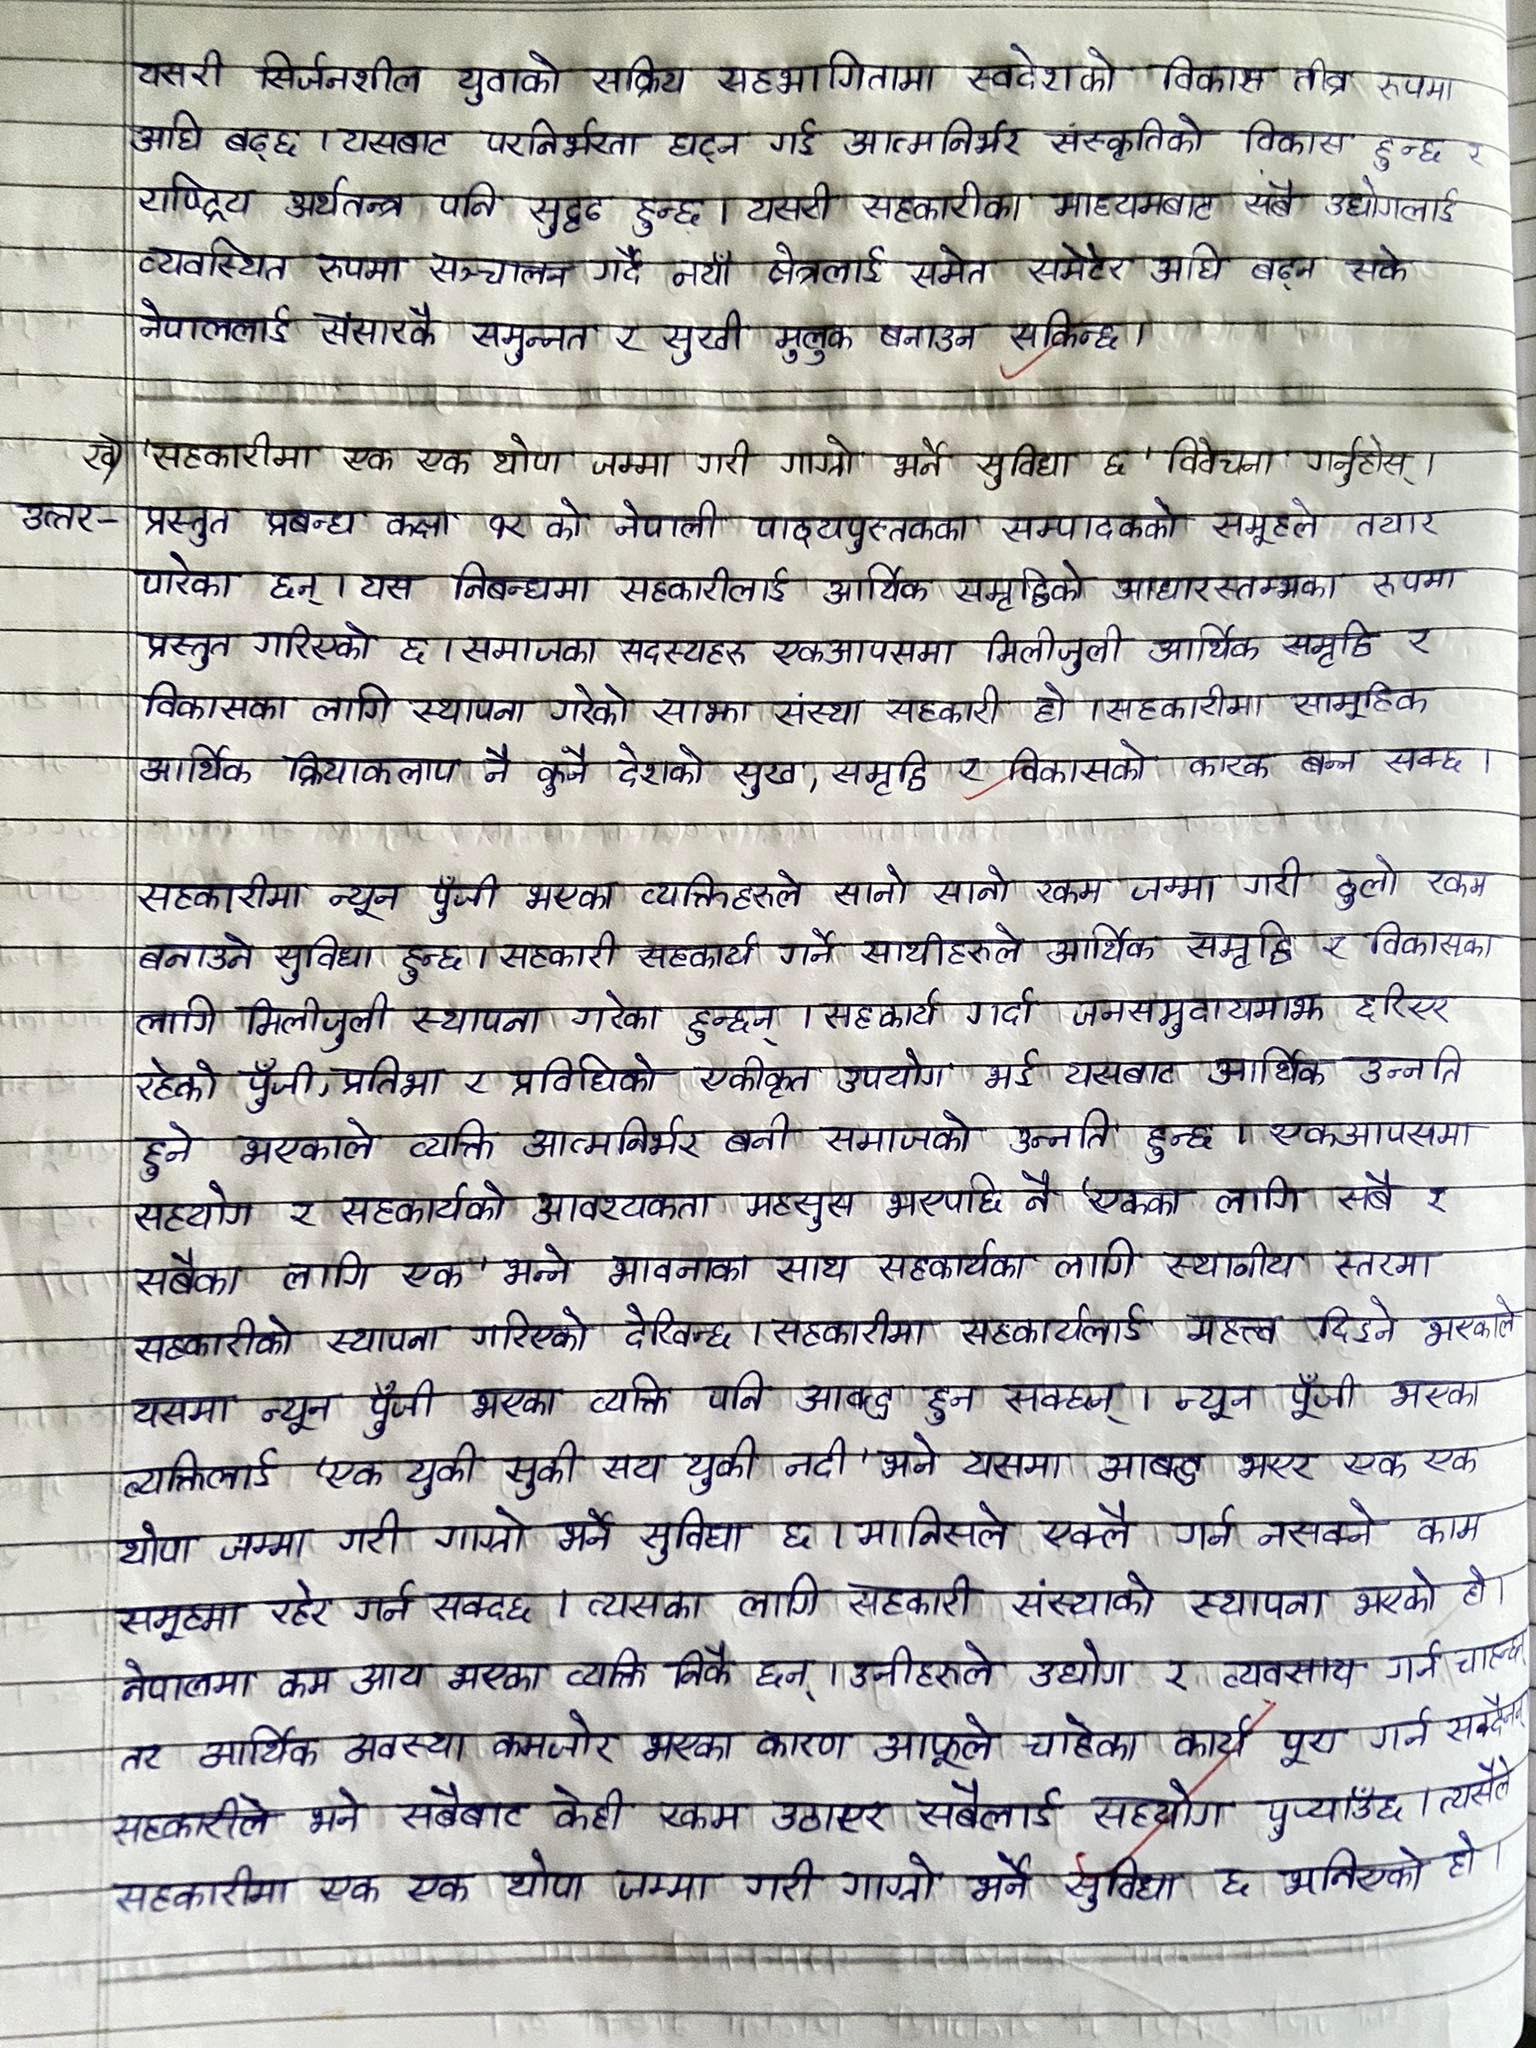text: (715, 42, 937, 98), (950, 1298, 1162, 1351), (1070, 989, 1325, 1032), (750, 508, 981, 555), (1278, 1842, 1430, 1911), (136, 419, 315, 476), (958, 40, 1125, 100), (103, 1866, 290, 1917), (1004, 1564, 1155, 1625), (1107, 568, 1346, 606), (239, 992, 397, 1050), (1000, 498, 1181, 548), (908, 1779, 1062, 1837), (278, 743, 461, 792), (523, 1185, 720, 1230), (248, 47, 424, 97), (131, 293, 290, 348), (478, 114, 647, 166), (106, 1795, 274, 1846), (1255, 1782, 1407, 1838), (637, 864, 807, 914), (854, 1501, 1012, 1555), (132, 1314, 295, 1366), (847, 1642, 1000, 1696), (1089, 1779, 1231, 1837), (142, 672, 292, 727), (862, 922, 1031, 971), (841, 118, 1028, 161), (131, 166, 260, 229), (113, 1655, 260, 1709), (615, 563, 792, 608), (334, 1180, 505, 1227), (1046, 114, 1217, 161), (841, 1572, 975, 1632), (770, 631, 960, 672), (521, 1121, 703, 1164), (111, 1448, 281, 1495), (1265, 1114, 1478, 1151), (1325, 173, 1468, 227), (1050, 177, 1218, 224), (131, 235, 287, 285), (873, 1240, 1034, 1288), (958, 558, 1091, 616), (1002, 742, 1155, 792), (862, 181, 1025, 227), (975, 626, 1125, 676), (1058, 1853, 1175, 1917), (1105, 684, 1265, 731), (311, 298, 442, 355), (449, 560, 595, 610), (136, 871, 303, 914), (232, 1118, 378, 1168), (1016, 1705, 1141, 1763), (390, 1782, 521, 1837), (1002, 303, 1125, 361), (765, 235, 886, 293), (510, 1056, 660, 1103), (1289, 676, 1439, 722), (278, 174, 413, 226), (489, 1713, 620, 1766), (424, 245, 573, 292), (815, 984, 954, 1034), (871, 1714, 991, 1772), (881, 1171, 1015, 1222), (1204, 497, 1329, 552), (452, 45, 561, 108), (466, 313, 592, 368), (1258, 1500, 1383, 1555), (1200, 1039, 1325, 1093), (136, 739, 258, 793), (1300, 432, 1430, 484), (1354, 1042, 1475, 1097), (999, 1376, 1131, 1426), (597, 1251, 753, 1293), (631, 927, 762, 977), (195, 1725, 321, 1777), (1367, 918, 1501, 966), (1181, 1582, 1329, 1625), (636, 1508, 744, 1567), (103, 1596, 240, 1643), (820, 1114, 971, 1156), (137, 926, 260, 977), (129, 1182, 252, 1234), (468, 1308, 591, 1359), (660, 305, 749, 376), (127, 618, 242, 672), (833, 1850, 941, 1908), (1220, 1651, 1359, 1696), (770, 1309, 925, 1350), (694, 1051, 818, 1101), (1158, 1240, 1299, 1284), (127, 1248, 242, 1301), (616, 1305, 737, 1355), (741, 1177, 857, 1229), (581, 1580, 713, 1625), (678, 997, 797, 1047), (1144, 618, 1263, 668), (765, 1793, 887, 1842), (1344, 1564, 1446, 1622), (1184, 922, 1302, 972), (252, 618, 378, 664), (1154, 50, 1275, 98), (1021, 1637, 1128, 1692), (119, 39, 226, 94), (269, 932, 382, 984), (457, 631, 607, 669), (337, 1725, 470, 1769), (826, 745, 928, 801), (1152, 434, 1275, 481), (1418, 1295, 1521, 1350), (1281, 614, 1384, 669), (494, 1853, 591, 1911), (883, 684, 1005, 729), (1354, 976, 1460, 1027), (497, 934, 623, 977), (608, 498, 721, 547), (1309, 1293, 1397, 1355), (963, 1850, 1047, 1914), (403, 690, 532, 732), (463, 1372, 565, 1426), (132, 548, 234, 601), (1004, 1106, 1112, 1156), (1020, 239, 1128, 289), (276, 1245, 374, 1300), (837, 1050, 949, 1098), (1039, 1496, 1134, 1553), (323, 1316, 455, 1356), (1176, 1301, 1279, 1353), (587, 52, 694, 102), (1325, 1240, 1442, 1285), (1092, 1443, 1208, 1488), (615, 631, 750, 669), (129, 1055, 224, 1109), (124, 98, 211, 158), (405, 1118, 505, 1169), (566, 990, 666, 1042), (1325, 845, 1399, 914), (1046, 921, 1155, 968), (329, 1055, 442, 1100), (432, 1501, 528, 1555), (544, 677, 639, 731), (816, 564, 933, 608), (615, 1864, 726, 1909), (975, 442, 1078, 490), (1236, 116, 1350, 160), (957, 1442, 1063, 1488), (1381, 1374, 1488, 1421), (428, 1582, 537, 1627), (1163, 1371, 1254, 1426), (331, 119, 453, 160), (140, 498, 242, 547), (524, 187, 611, 244), (410, 1001, 542, 1039), (110, 1517, 198, 1572), (870, 318, 984, 360), (361, 1372, 436, 1437), (778, 434, 865, 489), (737, 177, 842, 223), (1347, 505, 1455, 548), (586, 1367, 671, 1422), (900, 244, 994, 293), (762, 690, 865, 735), (423, 864, 499, 926), (545, 1782, 628, 1838), (1167, 1709, 1249, 1766), (502, 1438, 579, 1498), (641, 1719, 736, 1767), (794, 1372, 892, 1419), (1281, 1366, 1355, 1427), (10, 490, 103, 539), (1371, 61, 1465, 110), (307, 677, 397, 727), (749, 1724, 852, 1767), (520, 871, 623, 914), (1447, 1692, 1531, 1745), (482, 427, 566, 481), (261, 502, 368, 543), (665, 1638, 737, 1700), (768, 314, 857, 364), (495, 1238, 576, 1293), (239, 1055, 315, 1113), (681, 1435, 758, 1492), (131, 993, 221, 1042), (313, 245, 410, 290), (737, 1572, 824, 1622), (626, 189, 715, 237), (1062, 1055, 1176, 1092), (407, 1438, 478, 1498), (613, 740, 700, 789), (724, 1109, 803, 1163), (1054, 1235, 1137, 1285), (928, 860, 1012, 910), (1087, 1179, 1187, 1221), (126, 1392, 239, 1429), (1383, 740, 1476, 784), (741, 1854, 815, 1909), (566, 1646, 650, 1695), (1144, 1116, 1228, 1164), (729, 751, 805, 805), (1270, 1714, 1339, 1772), (652, 692, 755, 731), (136, 1114, 198, 1177), (444, 1658, 545, 1696), (1233, 1442, 1317, 1488), (1365, 564, 1480, 598), (324, 871, 402, 921), (1344, 239, 1421, 289), (781, 1434, 854, 1487), (828, 864, 913, 910), (1241, 247, 1326, 292), (1125, 866, 1220, 906), (668, 248, 742, 300), (695, 1366, 771, 1416), (216, 1524, 307, 1566), (1215, 1176, 1299, 1221), (265, 1579, 336, 1632), (261, 1380, 332, 1434), (226, 118, 307, 164), (1373, 126, 1450, 174), (400, 1869, 486, 1913), (965, 985, 1047, 1030), (1149, 237, 1223, 287), (665, 123, 744, 169), (531, 740, 589, 803), (653, 1795, 744, 1835), (1439, 1764, 1512, 1814), (1455, 1625, 1533, 1672), (395, 939, 473, 985), (1183, 747, 1276, 785), (336, 1508, 403, 1561), (1334, 1166, 1397, 1222), (1170, 1501, 1241, 1551), (887, 431, 952, 485), (874, 1432, 941, 1485), (1367, 1705, 1433, 1758), (1410, 1503, 1491, 1546), (303, 1784, 365, 1840), (587, 443, 673, 484), (432, 176, 503, 224), (353, 1577, 419, 1629), (1241, 856, 1309, 906), (770, 1250, 854, 1290), (1031, 871, 1108, 914), (1204, 1853, 1265, 1908), (395, 1251, 470, 1297), (1417, 863, 1494, 905), (349, 1659, 431, 1698), (920, 1374, 978, 1429), (552, 1508, 615, 1558), (752, 1651, 813, 1701), (386, 503, 455, 547), (1238, 177, 1304, 223), (1284, 60, 1355, 102), (353, 566, 426, 606), (416, 435, 474, 485), (1029, 679, 1079, 737), (774, 926, 842, 968), (316, 1869, 381, 1913), (987, 1047, 1037, 1101), (770, 113, 824, 163), (692, 439, 758, 479), (1446, 1832, 1488, 1895), (336, 435, 399, 477), (1338, 1447, 1412, 1482), (1296, 742, 1363, 780), (265, 564, 324, 608), (321, 1455, 387, 1493), (589, 244, 649, 284), (1420, 1440, 1484, 1477), (1384, 1638, 1439, 1682), (600, 1447, 662, 1485), (274, 1663, 332, 1703), (74, 429, 121, 479), (390, 629, 445, 668), (545, 495, 586, 547), (116, 1738, 169, 1777), (1021, 1168, 1062, 1218), (1092, 440, 1134, 485), (1457, 1558, 1491, 1613), (479, 742, 515, 792), (487, 506, 529, 547), (778, 1513, 816, 1556), (613, 314, 645, 364), (1160, 1650, 1194, 1696), (1421, 1177, 1454, 1218), (1404, 619, 1438, 656), (1320, 927, 1350, 968), (465, 1064, 494, 1106), (1462, 131, 1492, 169), (952, 751, 984, 787), (289, 1193, 319, 1227)
